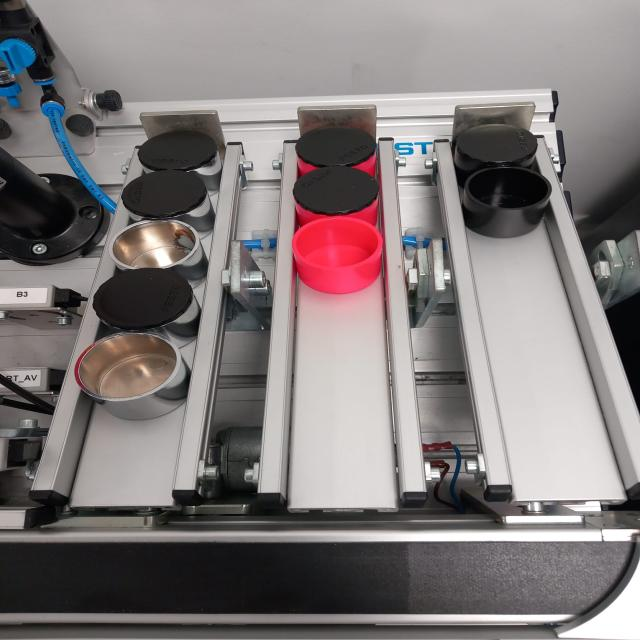NoLid: (60, 329, 207, 439), (287, 218, 402, 294), (462, 168, 558, 232), (107, 222, 214, 272)
Workpiece: (80, 267, 206, 336), (290, 167, 390, 219), (118, 172, 219, 220), (134, 124, 220, 175), (458, 121, 540, 171), (288, 128, 385, 168)
